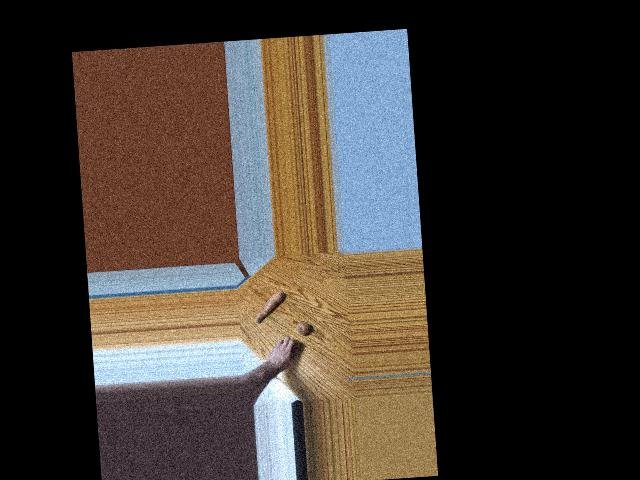onion: (283, 340, 300, 359)
